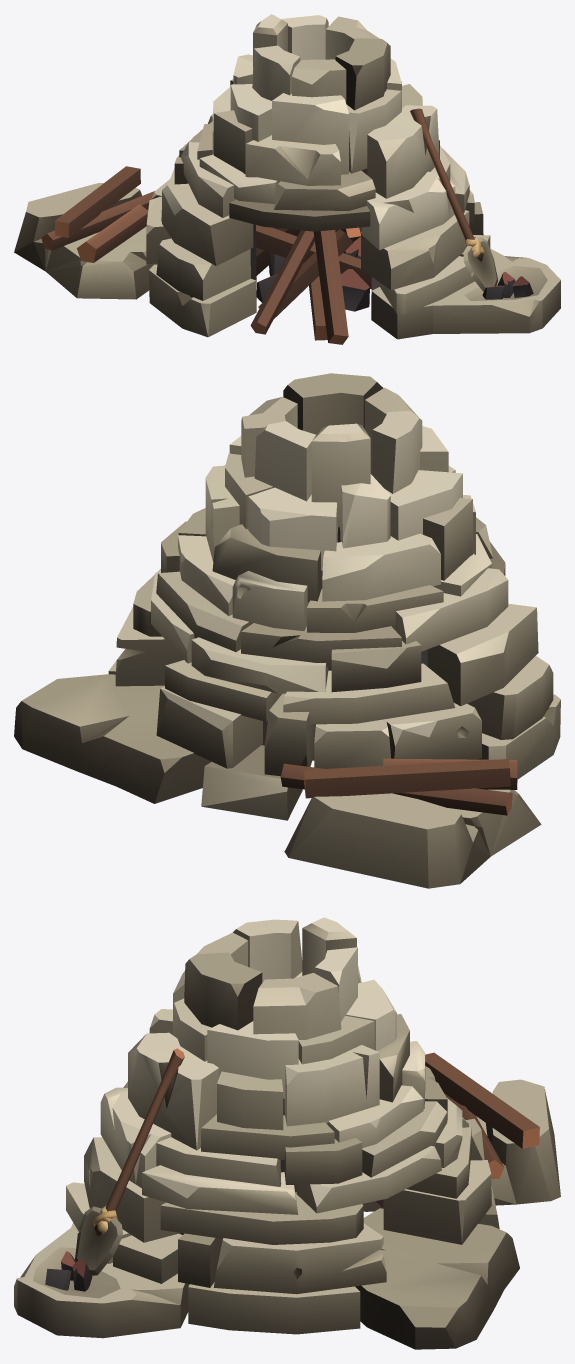
File: Furnace_1A.fbx
3 renders of one model, top to bottom at view 1: azimuth 30°, elevation 25°; view 2: azimuth 150°, elevation 25°; view 3: azimuth 270°, elevation 25°, orthographic. The views are drawn at different scales.
Parts seen in each view (by area): view 1: Furnace_1A, Furnace_1A_Shovel; view 2: Furnace_1A; view 3: Furnace_1A, Furnace_1A_Shovel.
Boxes of the visible parts, box(x1,y1,x2,y2) form: Furnace_1A: box(14, 14, 560, 344); Furnace_1A_Shovel: box(410, 108, 498, 291); Furnace_1A: box(14, 373, 560, 888); Furnace_1A: box(14, 917, 560, 1349); Furnace_1A_Shovel: box(75, 1048, 184, 1275).
Bounding box in the file's own units: 368 × 242 × 374.
